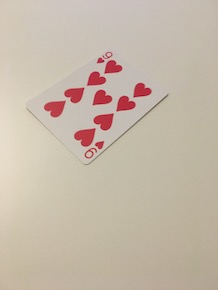NineOfHearts: (24, 43, 172, 167)
